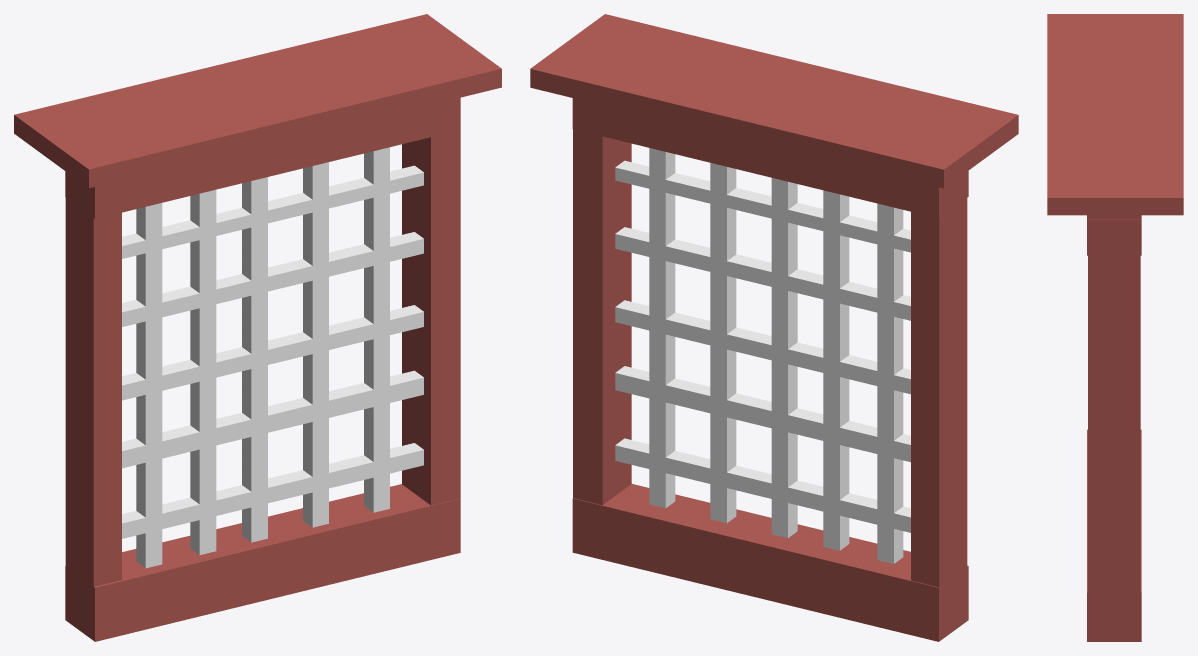
The model's file is borderfence-small.obj.
The picture shows the model from 3 angles, left to right: view 1: azimuth 30°, elevation 25°; view 2: azimuth 150°, elevation 25°; view 3: azimuth 270°, elevation 25°; orthographic projection. The views are drawn at different scales.
Parts seen in each view (by area): view 1: top, frame_2, frame_1, frame, frame_3, Cube_1_1, Cube_1, Cube_1_4, Cube_1_2, Cube_1_3, Cube_2_4, Cube_2_2 (+3 smaller); view 2: top, frame_2, frame_1, frame, frame_3, Cube_1, Cube_1_2, Cube_1_1, Cube_1_3, Cube_1_4, Cube_2_4, Cube_2_3 (+3 smaller); view 3: top, frame, frame_2, frame_3.
Part boxes in pixels (<box>): top: <box>14,14,501,188</box>; frame_2: <box>65,484,460,641</box>; frame_1: <box>65,172,121,620</box>; frame: <box>402,130,460,505</box>; frame_3: <box>65,97,460,218</box>; Cube_1_1: <box>190,189,216,554</box>; Cube_1: <box>136,203,162,568</box>; Cube_1_4: <box>364,147,389,512</box>; Cube_1_2: <box>242,177,267,542</box>; Cube_1_3: <box>303,162,328,527</box>; Cube_2_4: <box>122,370,423,468</box>; Cube_2_2: <box>122,232,423,326</box>; top: <box>530,14,1018,188</box>; frame_2: <box>572,484,968,641</box>; frame_1: <box>911,172,967,621</box>; frame: <box>573,129,631,505</box>; frame_3: <box>572,98,968,218</box>; Cube_1: <box>877,203,903,563</box>; Cube_1_2: <box>771,178,797,537</box>; Cube_1_1: <box>823,190,849,550</box>; Cube_1_3: <box>710,163,736,523</box>; Cube_1_4: <box>649,148,675,508</box>; Cube_2_4: <box>615,366,910,462</box>; Cube_2_3: <box>615,300,910,394</box>; top: <box>1047,14,1183,215</box>; frame: <box>1088,219,1140,623</box>; frame_2: <box>1087,429,1141,641</box>; frame_3: <box>1087,215,1141,255</box>.
Size of the model in its own units: 3.62 by 4.15 by 1.14.
